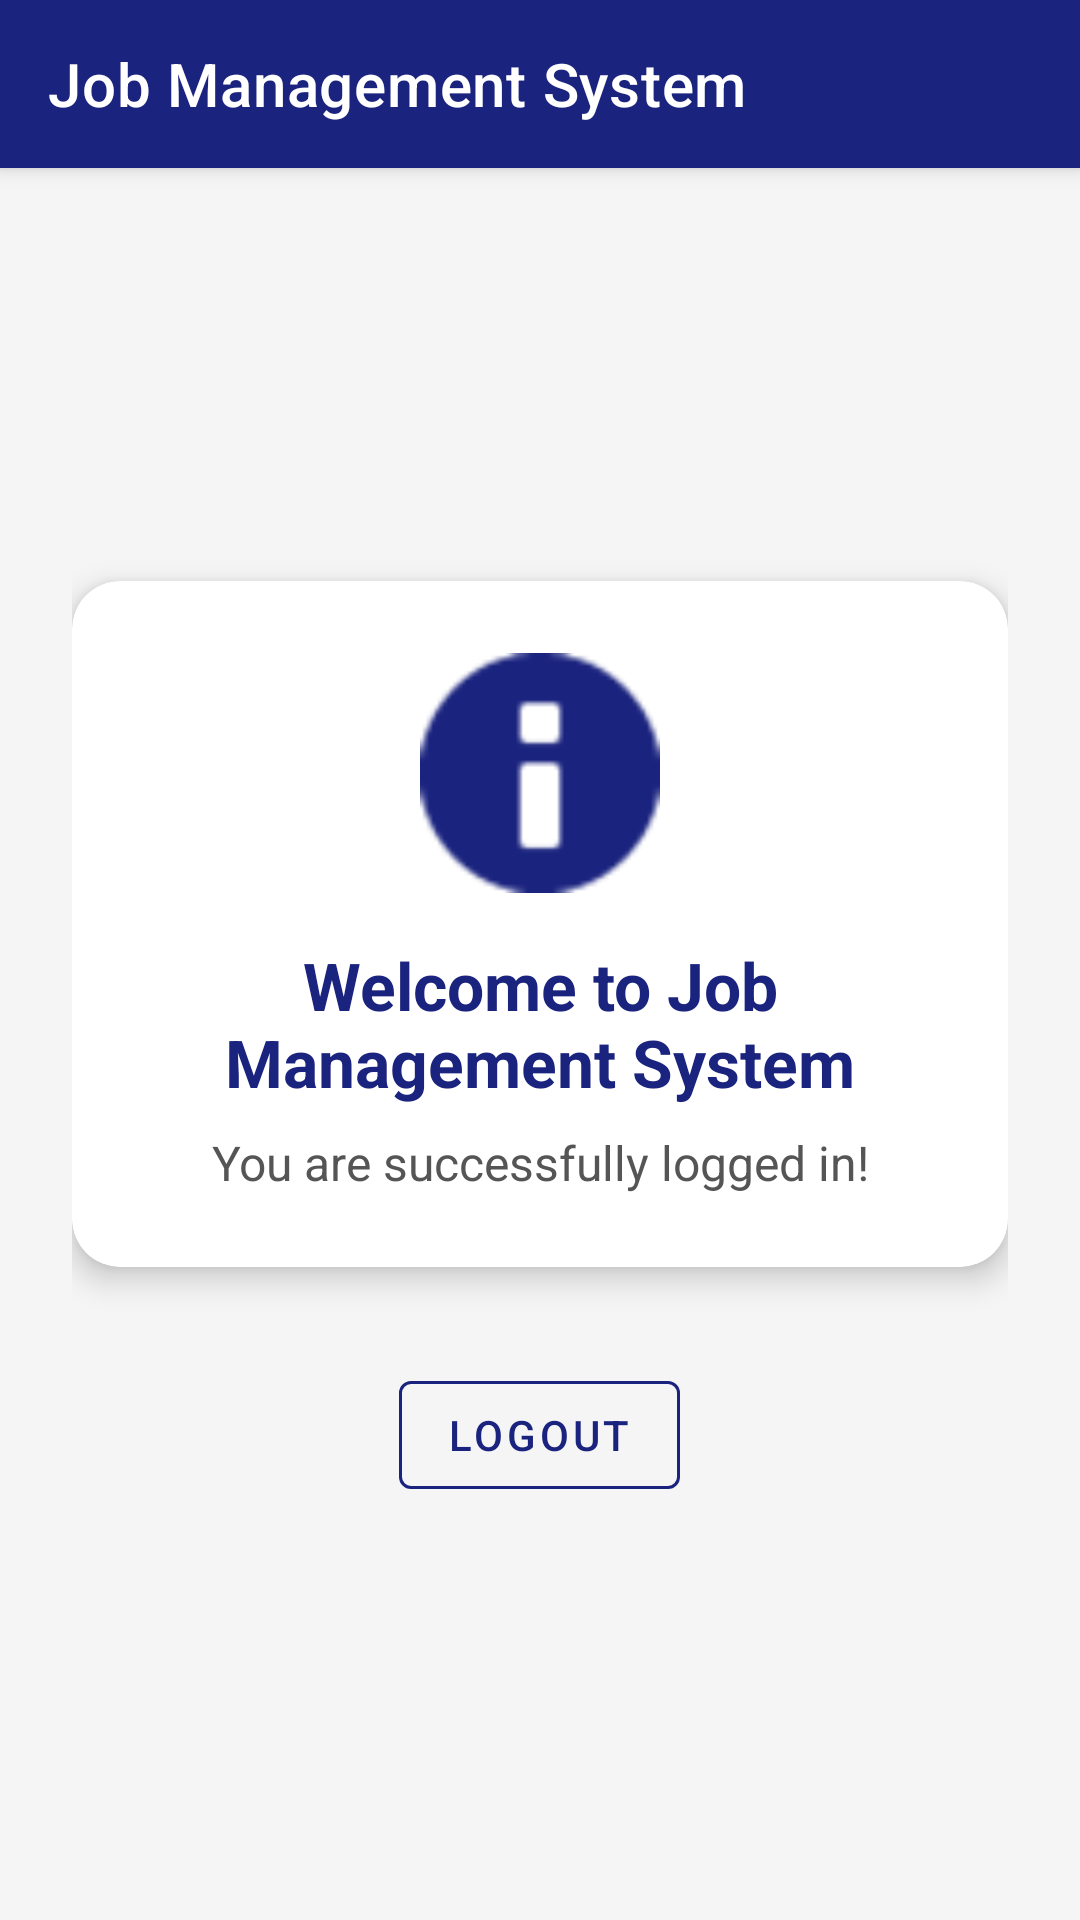

Icons on this 1080px×1920px Android screen, each with its box as (x1, y1, x2, y2):
info: (420, 653, 660, 893)
